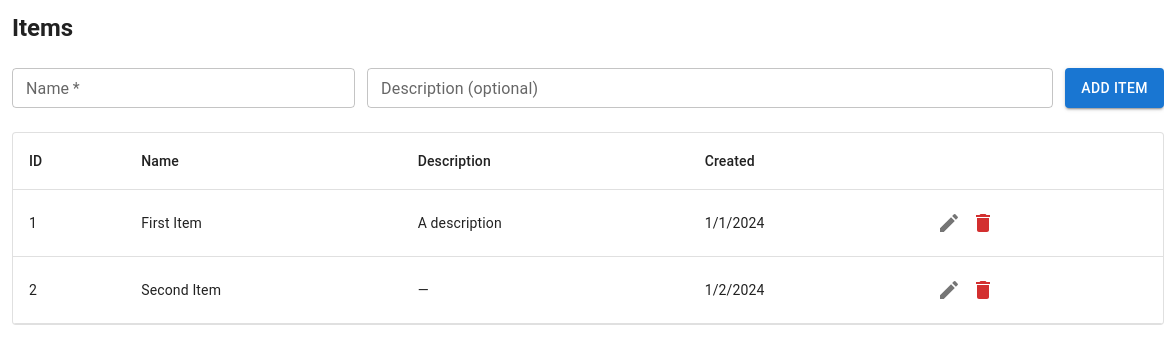
ItemsPage › deletes an item and removes it from the list
The image size is (1176, 342).
Expected: the text "First Item" is shown, [125, 190, 402, 256]
Click the button named "delete" in the row of "First Item" at point(983, 223), box [966, 206, 1000, 240]
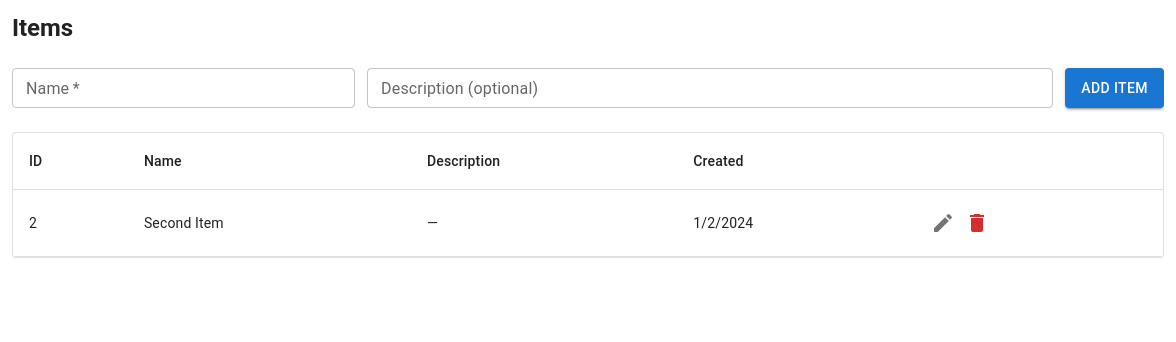
Expected: the text "First Item" is gone
